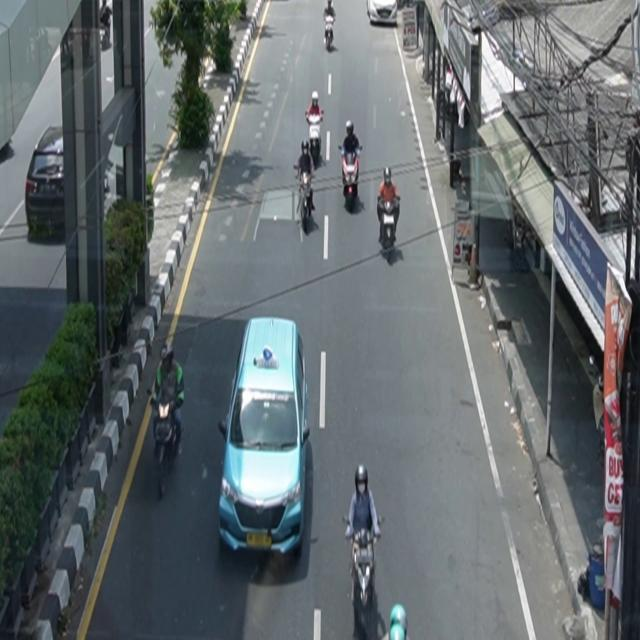car: (218, 317, 311, 558), (367, 1, 398, 26)
